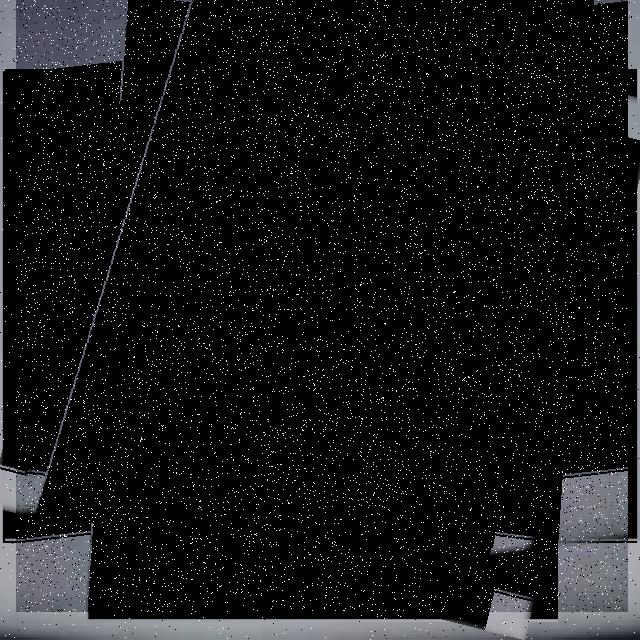dua puluh ribu rupiah: (16, 0, 628, 612)
